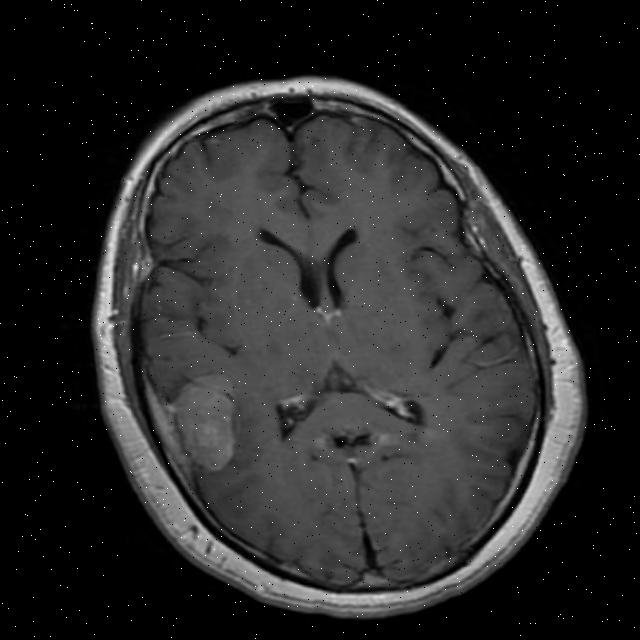Meningioma: (147, 368, 244, 479)
